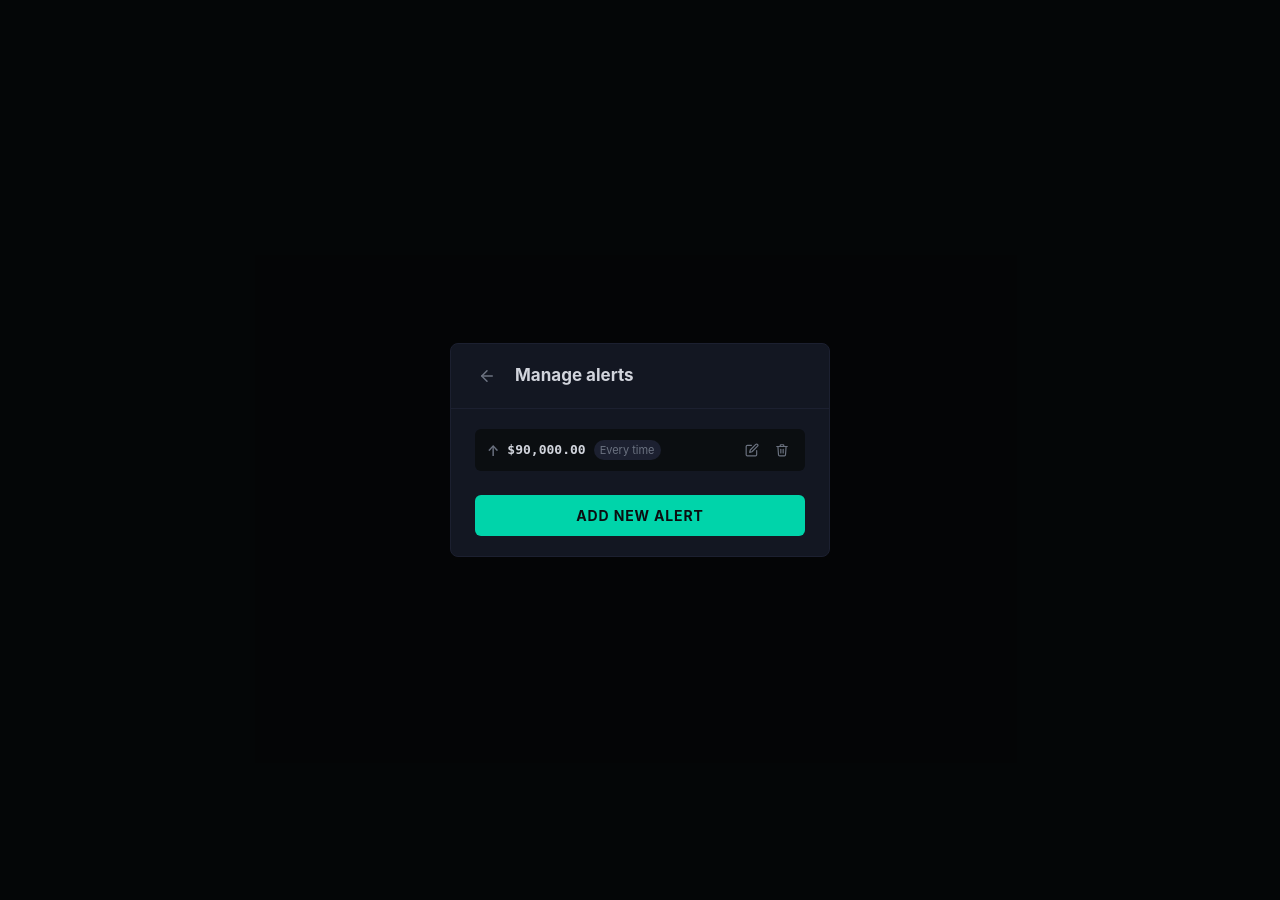
AlertModal › should switch to create screen when Add new alert is clicked
Click the button "Add new alert" at {"x": 640, "y": 516}, box [475, 495, 805, 536]
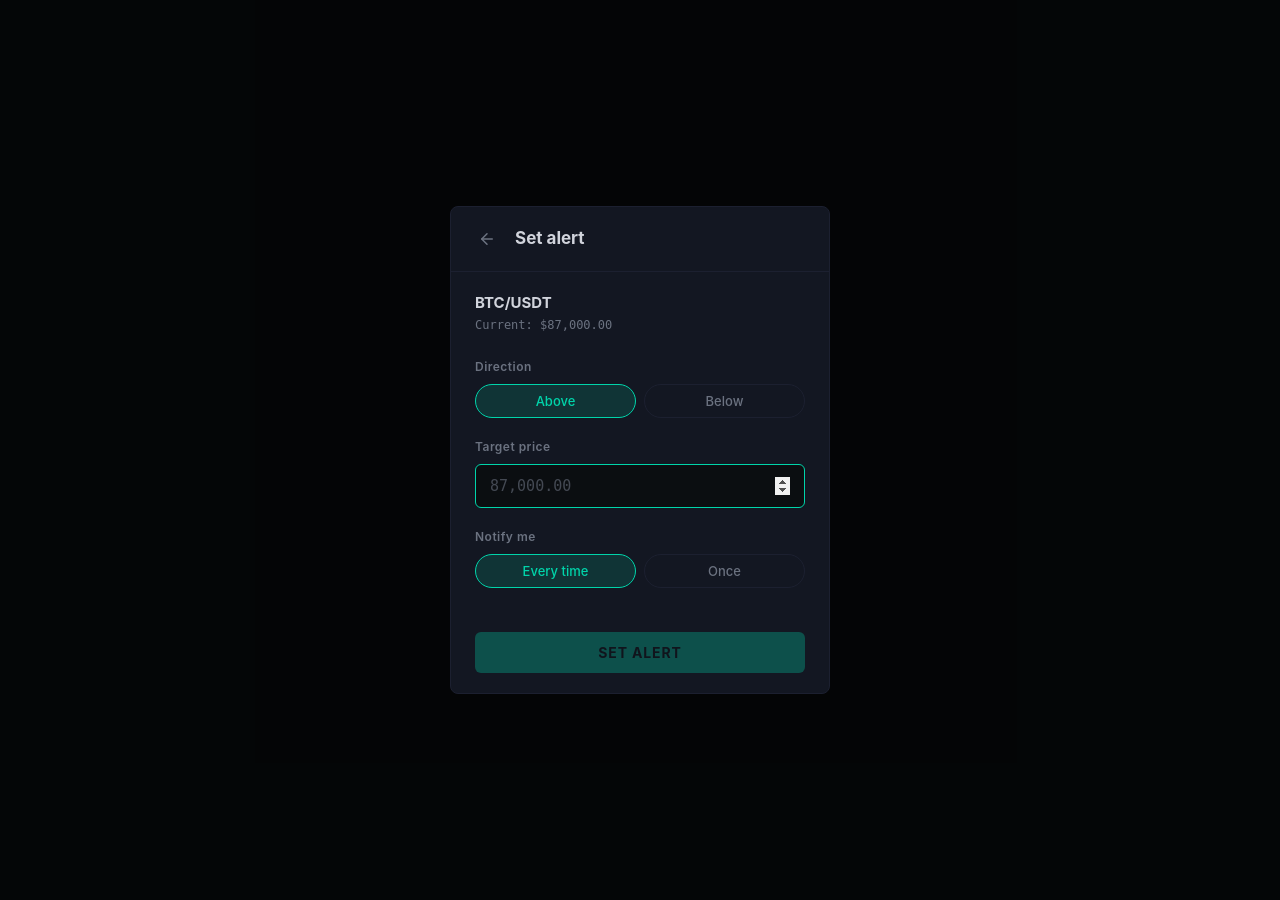
expect the text "Set alert" is shown: met, box [515, 226, 585, 252]
